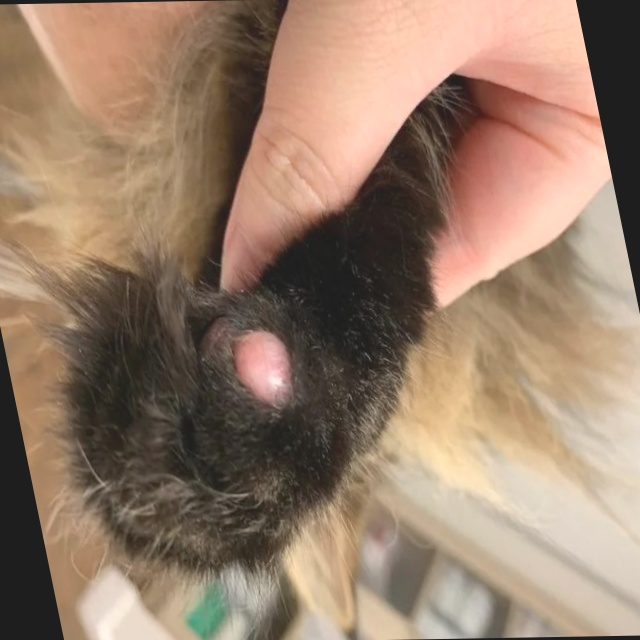lump_and_bump: (227, 326, 299, 413)
